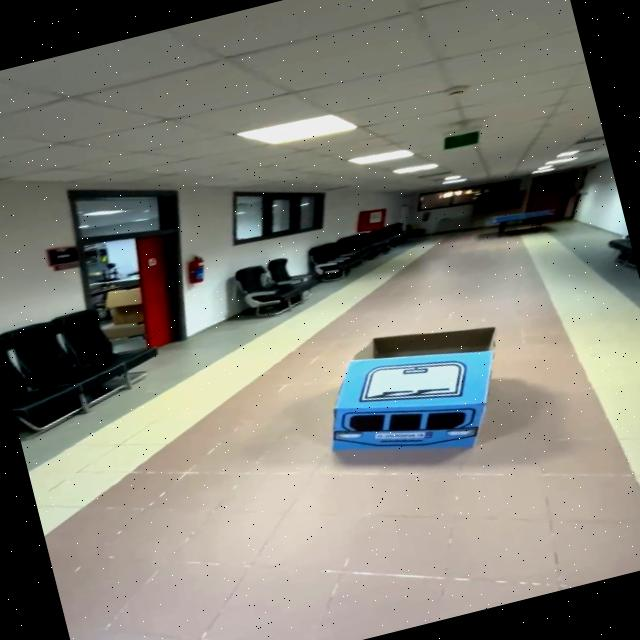blue_car: (264, 281, 561, 504)
